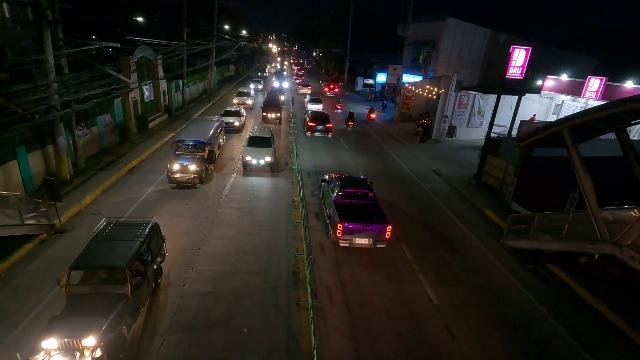car: (240, 125, 276, 170), (303, 110, 333, 140), (261, 89, 284, 123), (220, 106, 247, 130), (233, 88, 255, 111), (268, 85, 285, 105), (304, 95, 324, 112), (274, 73, 288, 89), (296, 82, 313, 95), (249, 78, 265, 91), (323, 83, 339, 96), (253, 67, 268, 79), (294, 71, 305, 82), (292, 64, 300, 71)
jeepney: (18, 212, 168, 360), (169, 116, 227, 187)
motorcycle: (344, 116, 355, 131), (335, 98, 343, 115), (367, 109, 376, 123)
truck: (319, 171, 391, 252)
